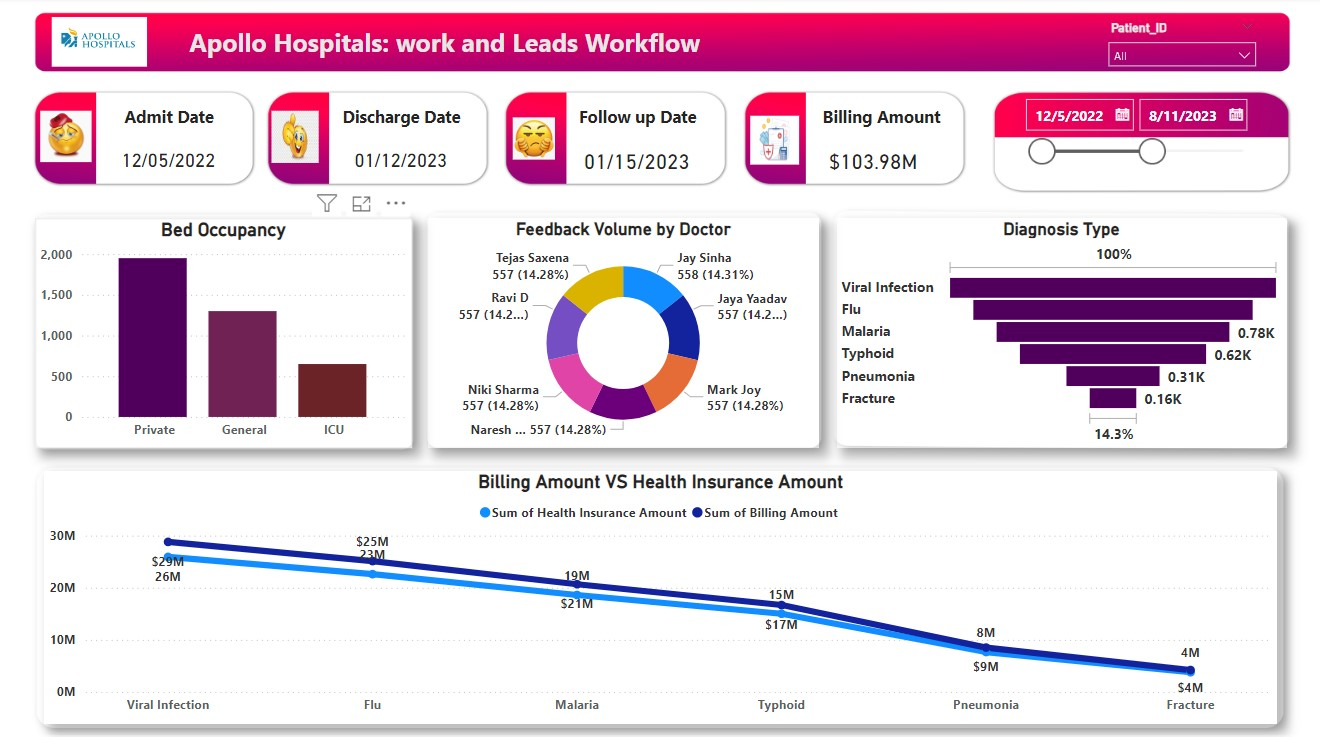

The page's visual inventory and layout, read from the dashboard file:
{"tool":"powerbi","page":{"name":"Page 1","canvas":[1280,720],"ordinal":0},"visuals":[{"type":"textbox","box":[168.9,22.9,522.4,49.5],"z":0},{"type":"image","box":[15.7,14.5,161.7,57.9],"z":1},{"type":"slicer","fields":{"Values":["Book1.Patient_ID"]},"box":[1060.5,18.1,162.9,49.5],"z":2},{"type":"card","fields":{"Values":["Book1.Admit_Date"]},"box":[96.5,137.5,133.9,42.2],"z":3},{"type":"textbox","box":[89.3,98.9,149.6,38.6],"z":4},{"type":"card","fields":{"Values":["Book1.Discharge_Date"]},"box":[323.3,137.5,129.1,42.2],"z":5},{"type":"textbox","box":[313.7,98.9,149.6,38.6],"z":6},{"type":"card","fields":{"Values":["Book1.Followup Date"]},"box":[548.9,137.5,133.9,42.2],"z":7},{"type":"textbox","box":[541.7,98.9,149.6,38.6],"z":8},{"type":"textbox","box":[776.9,98.9,149.6,38.6],"z":9},{"type":"card","fields":{"Values":["Book1.Billing Amount"]},"box":[776.9,137.5,133.9,42.2],"z":10},{"type":"slicer","fields":{"Values":["Book1.Admit_Date"]},"box":[978.4,88.1,244.9,91.7],"z":11},{"type":"columnChart","title":" Bed Occupancy","fields":{"Category":["Book1.Bed_Occupancy"],"Y":["Book1.Bed_Occupancy"]},"box":[35,213.5,363.1,222],"z":12},{"type":"donutChart","title":"Feedback Volume by Doctor","fields":{"Category":["Book1.Doctor"],"Y":["Book1.Doctor"]},"box":[413.8,213.5,377.6,222],"z":13},{"type":"funnel","title":" Diagnosis Type","fields":{"Category":["Book1.Diagnosis"],"Y":["Book1.Diagnosis"]},"box":[808.3,213.5,434.3,222],"z":14},{"type":"lineChart","title":"Billing Amount VS  Health Insurance Amount ","fields":{"Y":["Book1.Health Insurance Amount","Book1.Billing Amount"],"Category":["Book1.Diagnosis"]},"box":[43.4,457.2,1190.8,243.7],"z":15},{"type":"image","box":[32.6,105,63.9,59.1],"z":16},{"type":"image","box":[258.2,105,55.5,60.3],"z":17},{"type":"image","box":[491,107.4,50.7,59.1],"z":18},{"type":"image","box":[720.2,109.8,56.7,56.7],"z":19}]}

Visuals, with their boxes in screenshot pixels (x1, y1, x2, y2), scaled from the page's 1280x720 canvas onto the 1320x737 screenshot:
textbox: locate(174, 23, 713, 74)
image: locate(16, 15, 183, 74)
slicer - Book1.Patient_ID: locate(1094, 19, 1262, 69)
card - Book1.Admit_Date: locate(100, 141, 238, 184)
textbox: locate(92, 101, 246, 141)
card - Book1.Discharge_Date: locate(333, 141, 467, 184)
textbox: locate(324, 101, 478, 141)
card - Book1.Followup Date: locate(566, 141, 704, 184)
textbox: locate(559, 101, 713, 141)
textbox: locate(801, 101, 955, 141)
card - Book1.Billing Amount: locate(801, 141, 939, 184)
slicer - Book1.Admit_Date: locate(1009, 90, 1262, 184)
" Bed Occupancy" columnChart: locate(36, 219, 411, 446)
"Feedback Volume by Doctor" donutChart: locate(427, 219, 816, 446)
" Diagnosis Type" funnel: locate(834, 219, 1281, 446)
"Billing Amount VS  Health Insurance Amount " lineChart: locate(45, 468, 1273, 717)
image: locate(34, 107, 100, 168)
image: locate(266, 107, 324, 169)
image: locate(506, 110, 559, 170)
image: locate(743, 112, 801, 170)
